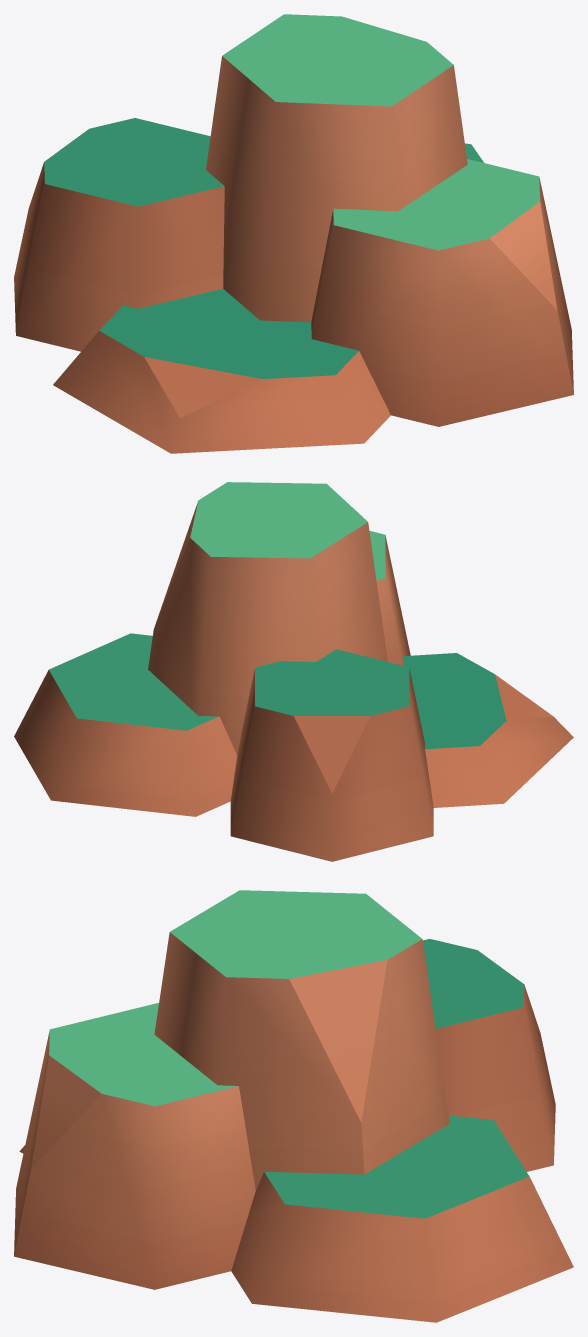
The model's file is detail-dirt-large.glb.
The picture shows the model from 3 angles, top to bottom: view 1: azimuth 30°, elevation 25°; view 2: azimuth 150°, elevation 25°; view 3: azimuth 270°, elevation 25°; orthographic projection. The views are drawn at different scales.
Parts seen in each view (by area): view 1: detail-dirt-large; view 2: detail-dirt-large; view 3: detail-dirt-large.
Boxes of the visible parts, left/top/right/bottom form: detail-dirt-large: left=14, top=14, right=573, bottom=453; detail-dirt-large: left=14, top=482, right=573, bottom=861; detail-dirt-large: left=14, top=890, right=573, bottom=1322.
Bounding box in the file's own units: 0.8531 × 0.4145 × 0.7785.
1 material, 1 textured.
